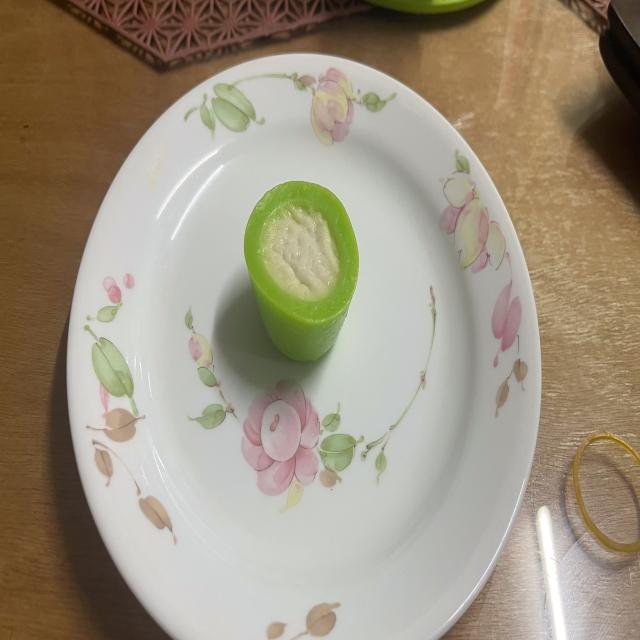nona-manis: (244, 180, 359, 360)
